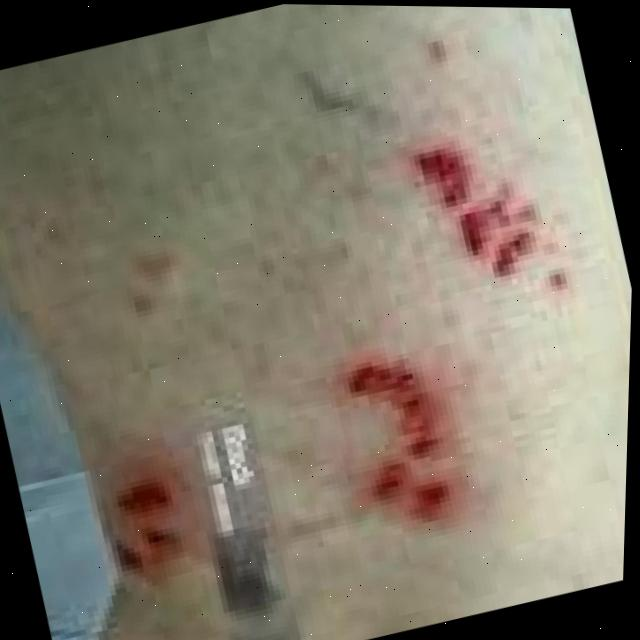Shingles: (327, 344, 463, 539), (410, 118, 554, 282), (97, 474, 186, 584)
